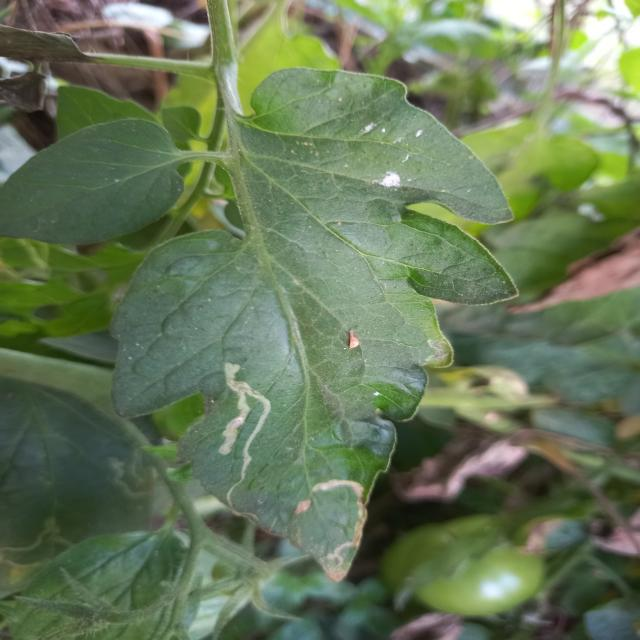Tuta absoluta: (217, 363, 274, 482), (311, 477, 373, 583)
